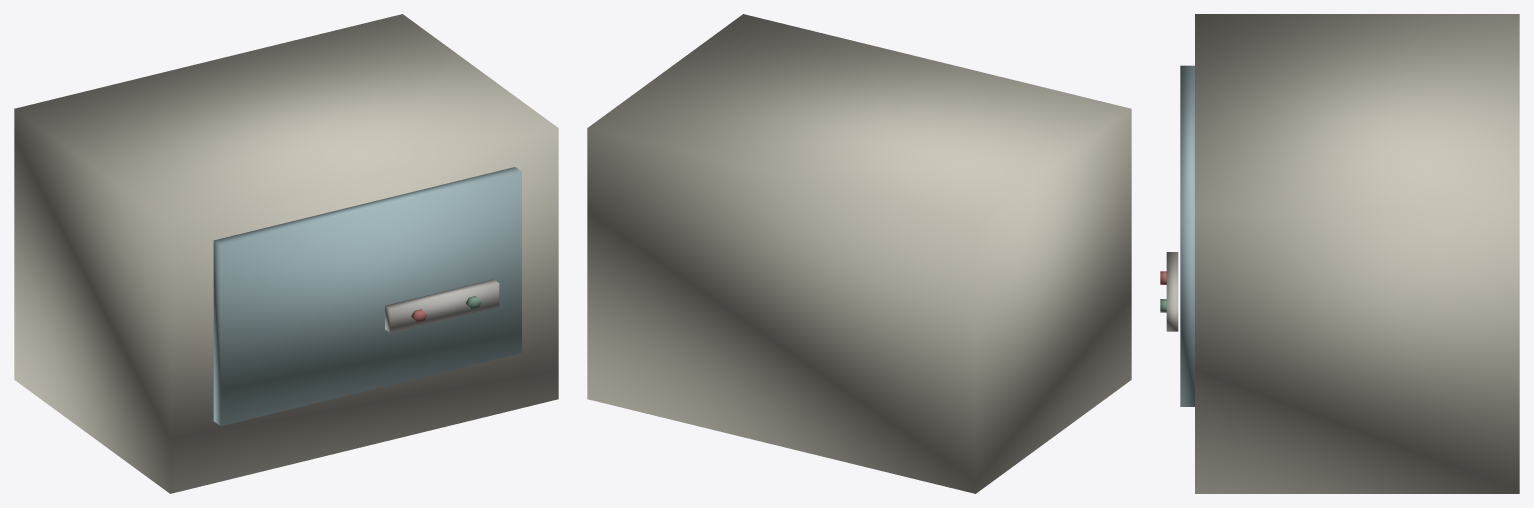
The model's file is crt_monitor__wide.glb.
The picture shows the model from 3 angles, left to right: view 1: azimuth 30°, elevation 25°; view 2: azimuth 150°, elevation 25°; view 3: azimuth 270°, elevation 25°; orthographic projection. The views are drawn at different scales.
Visible parts, largest first — view 1: world; view 2: world; view 3: world.
Part boxes in pixels (x1,y1,x2,y2): world: (14, 14, 558, 493); world: (587, 14, 1131, 493); world: (1160, 14, 1519, 493).
Size of the model in its own units: 0.7192 by 0.52 by 0.5535.
